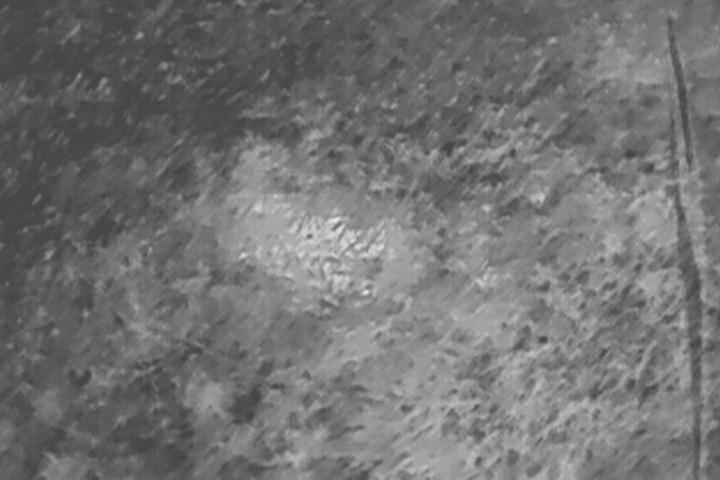landmine: (257, 195, 390, 295)
